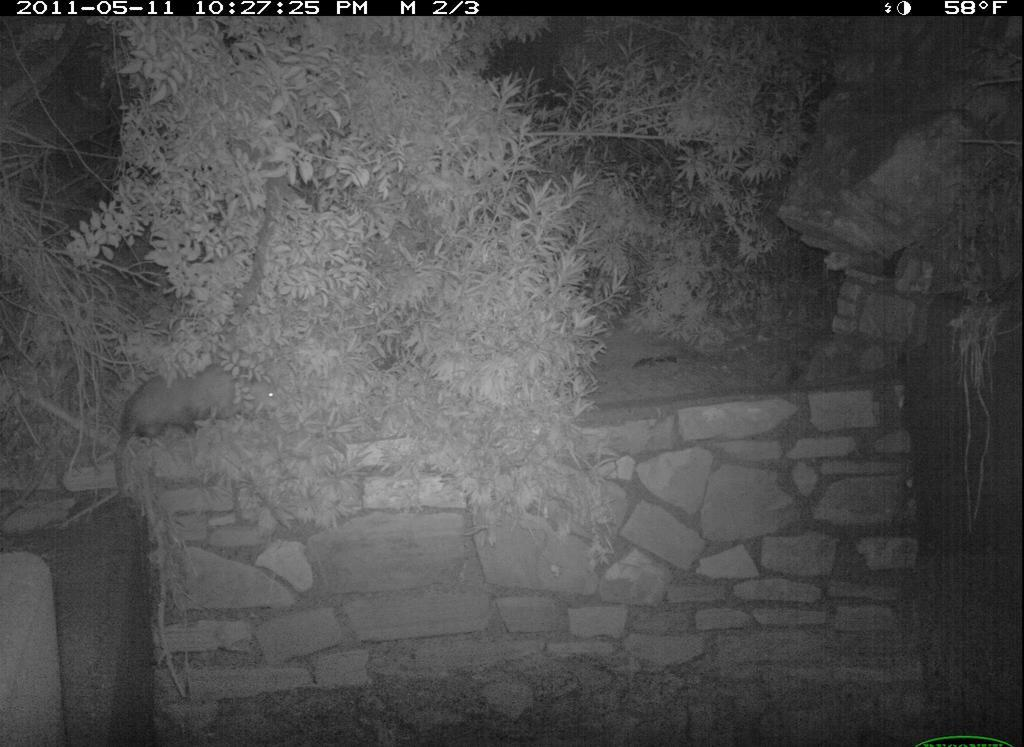opossum: (97, 335, 301, 471)
